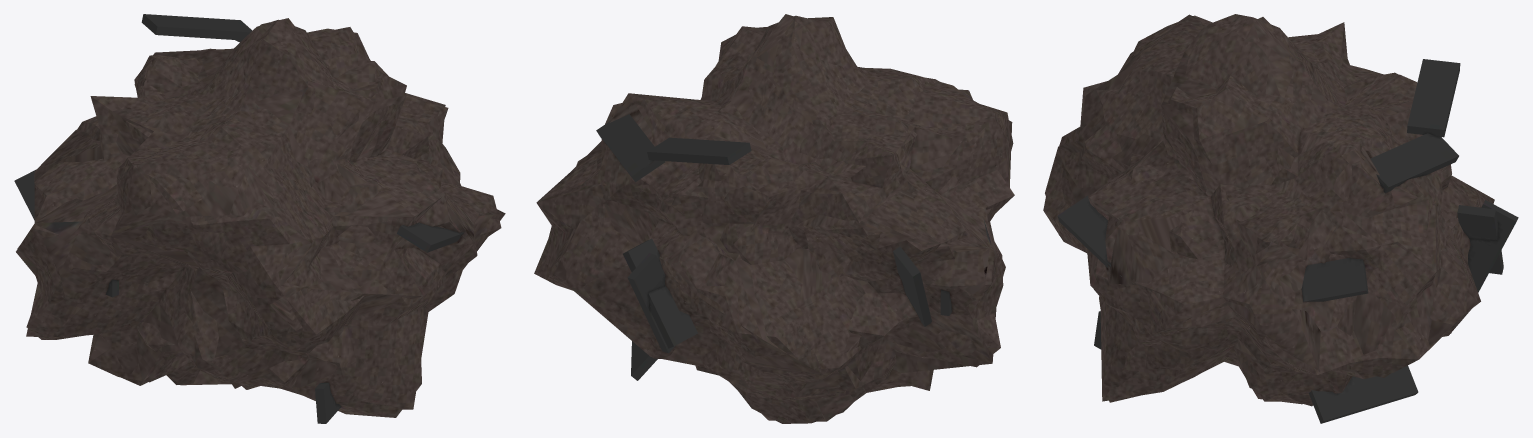
Rendered from sd_prop_lava.glb.
3 views of the same model, side by side, from view 1: azimuth 30°, elevation 25°; view 2: azimuth 150°, elevation 25°; view 3: azimuth 270°, elevation 25° (orthographic). The views are drawn at different scales.
Parts seen in each view (by area): view 1: LOD0_body, LOD1_body; view 2: LOD0_body, LOD1_body; view 3: LOD0_body, LOD1_body.
Boxes of the visible parts, x1,y1,x2,y2 form: LOD0_body: (14, 14, 501, 423); LOD1_body: (16, 18, 505, 409); LOD0_body: (534, 15, 1014, 423); LOD1_body: (536, 14, 1012, 421); LOD0_body: (1043, 14, 1518, 423); LOD1_body: (1045, 14, 1494, 404).
Bounding box in the file's own units: 1 × 0.8233 × 0.9173.
Materials: 1 (1 with a texture image).
